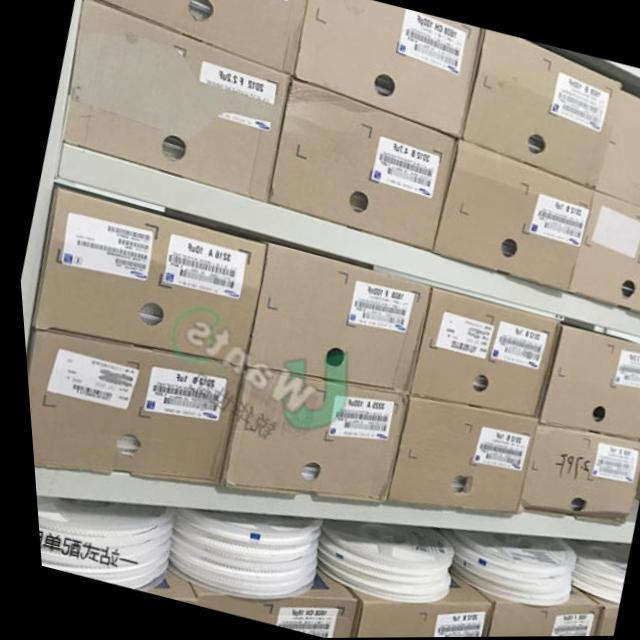box: (59, 0, 292, 201), (28, 188, 267, 365), (267, 78, 457, 252), (21, 329, 235, 483), (238, 242, 426, 392), (293, 0, 482, 139), (213, 368, 402, 504), (426, 139, 592, 292), (461, 30, 619, 188), (403, 286, 554, 419), (379, 397, 532, 513), (99, 0, 307, 75), (531, 324, 640, 444), (513, 425, 639, 522), (183, 572, 350, 638), (336, 571, 482, 638), (565, 189, 640, 315), (466, 588, 593, 637), (592, 90, 640, 208), (569, 589, 610, 637), (141, 570, 189, 604)
